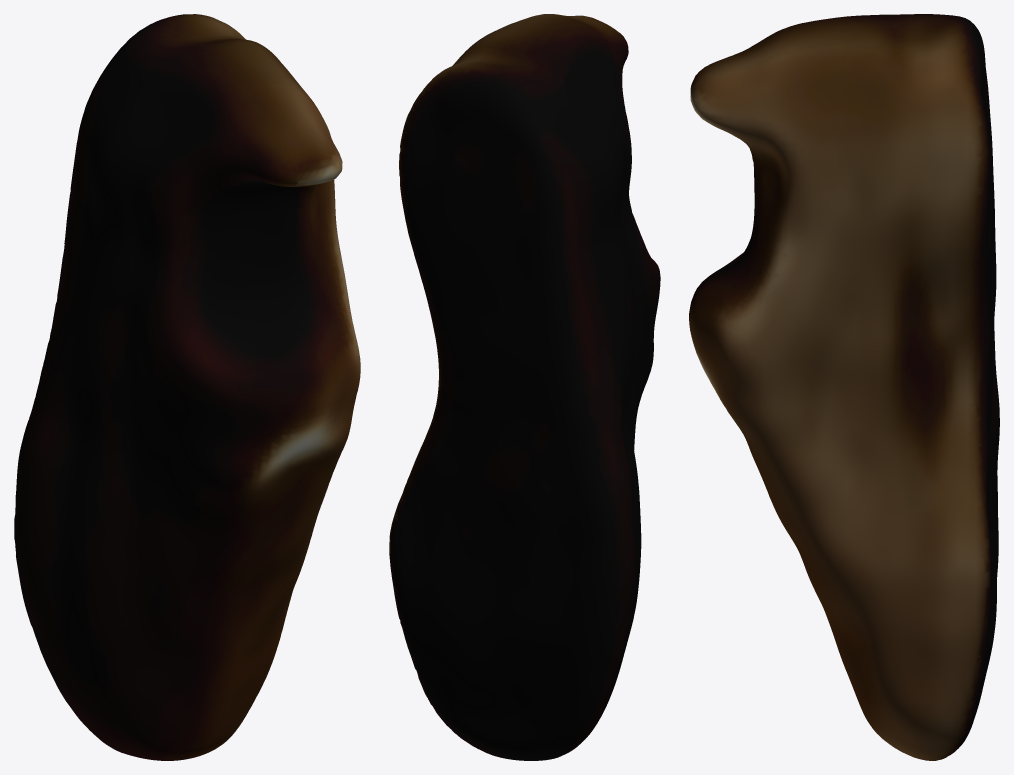
File: shoe3.glb
3 views of the same model, side by side, from view 1: azimuth 30°, elevation 25°; view 2: azimuth 150°, elevation 25°; view 3: azimuth 270°, elevation 25° (orthographic). The views are drawn at different scales.
Bounding box in the file's own units: 0.3519 × 0.9995 × 0.3837.
